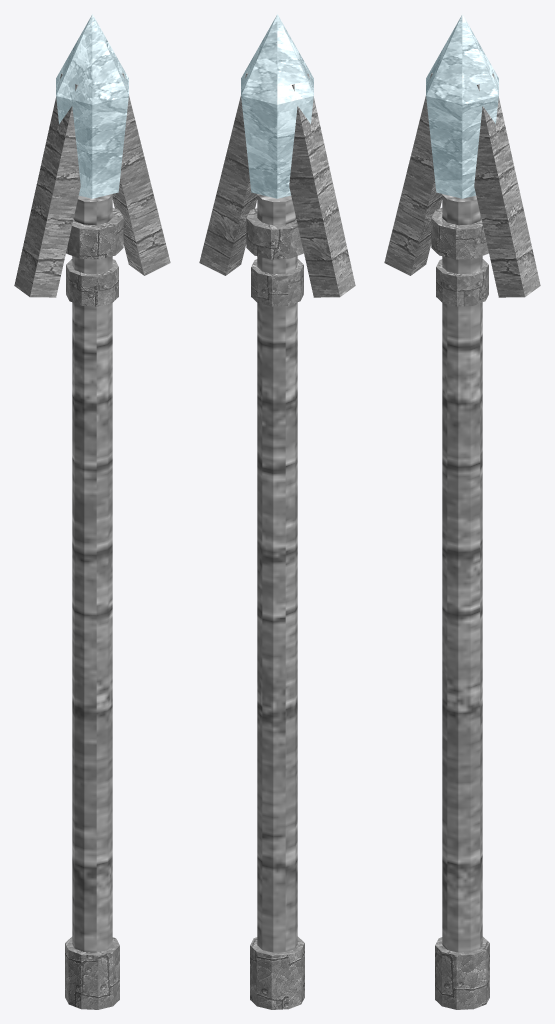
The model's file is staff-frost-simple.glb.
The picture shows the model from 3 angles, left to right: view 1: azimuth 30°, elevation 25°; view 2: azimuth 150°, elevation 25°; view 3: azimuth 330°, elevation 25°; orthographic projection.
Visible parts, largest first — view 1: shaft, simple-crystal, left-fork, right-fork, pommel, fork-band, neck-band; view 2: shaft, simple-crystal, left-fork, right-fork, pommel, fork-band, neck-band; view 3: shaft, simple-crystal, right-fork, left-fork, pommel, fork-band, neck-band.
Part boxes in pixels (box(x1,y1,x2,y2)): shaft: box(72, 194, 112, 952); simple-crystal: box(56, 14, 128, 198); left-fork: box(14, 73, 80, 297); right-fork: box(112, 73, 170, 275); pommel: box(65, 936, 119, 1009); fork-band: box(66, 208, 123, 259); neck-band: box(66, 259, 118, 306); shaft: box(257, 194, 297, 952); simple-crystal: box(241, 14, 313, 198); left-fork: box(289, 73, 355, 297); right-fork: box(199, 73, 257, 275); pommel: box(250, 936, 304, 1009); fork-band: box(246, 208, 303, 259); neck-band: box(251, 259, 303, 306); shaft: box(442, 194, 482, 952); simple-crystal: box(426, 14, 498, 198); right-fork: box(474, 73, 540, 297); left-fork: box(384, 73, 442, 275); pommel: box(435, 936, 489, 1009); fork-band: box(431, 208, 488, 259); neck-band: box(436, 259, 488, 306).
Bounding box in the file's own units: 0.2708 × 1.81 × 0.1212.
4 materials, 4 textured.
